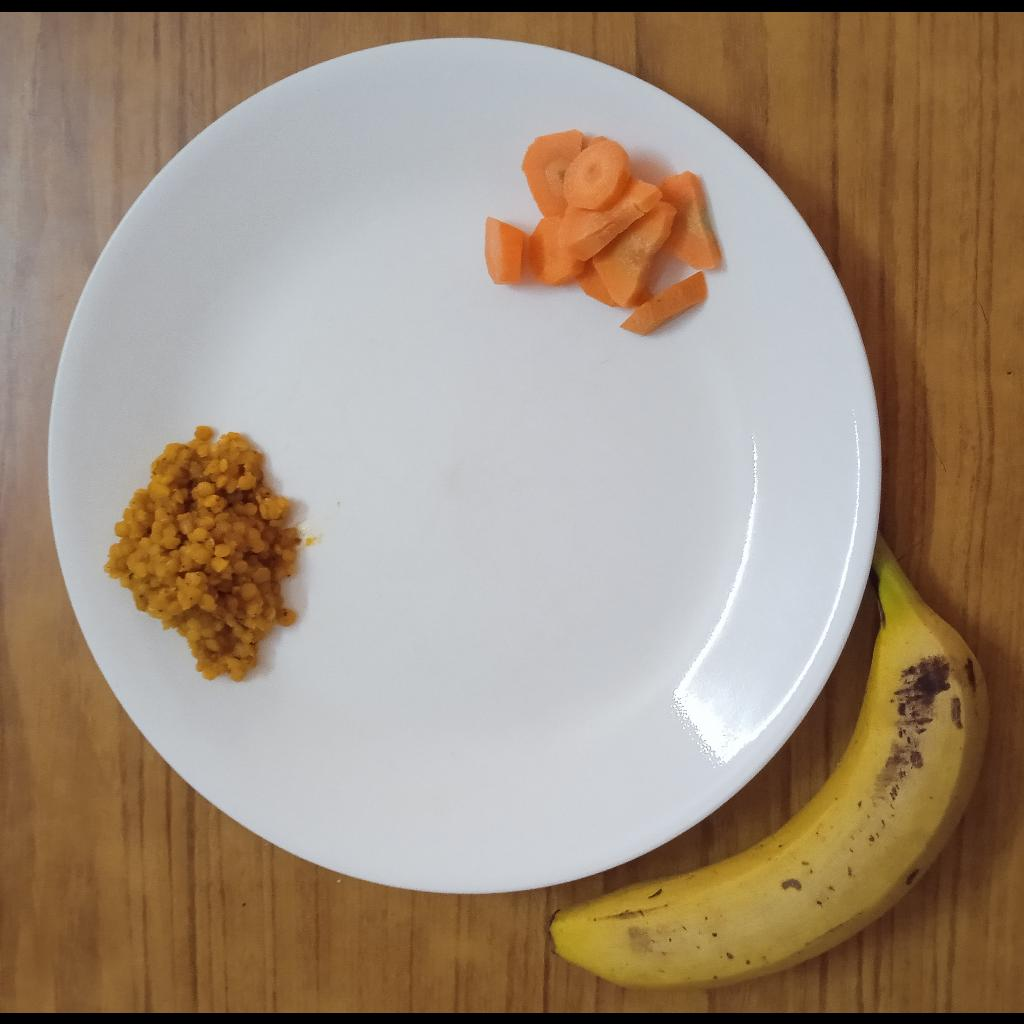banana: (547, 527, 991, 993)
carrot: (485, 127, 724, 336)
daal: (105, 425, 303, 682)
